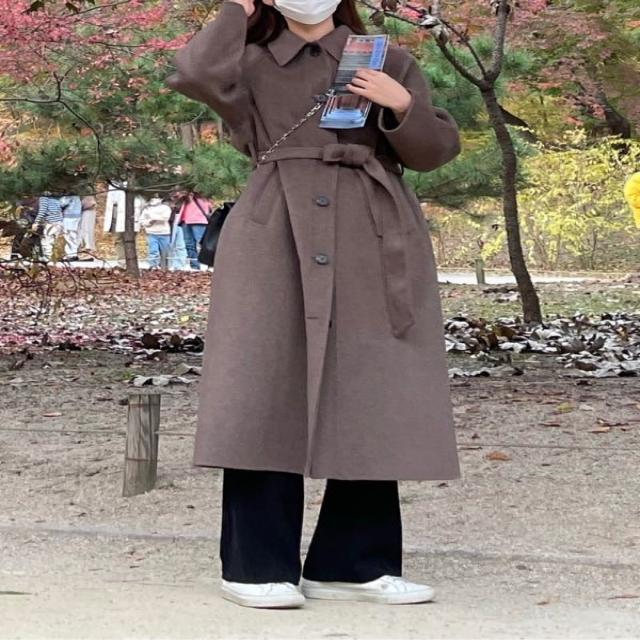coat: (163, 0, 461, 481)
slacks: (221, 467, 403, 583)
